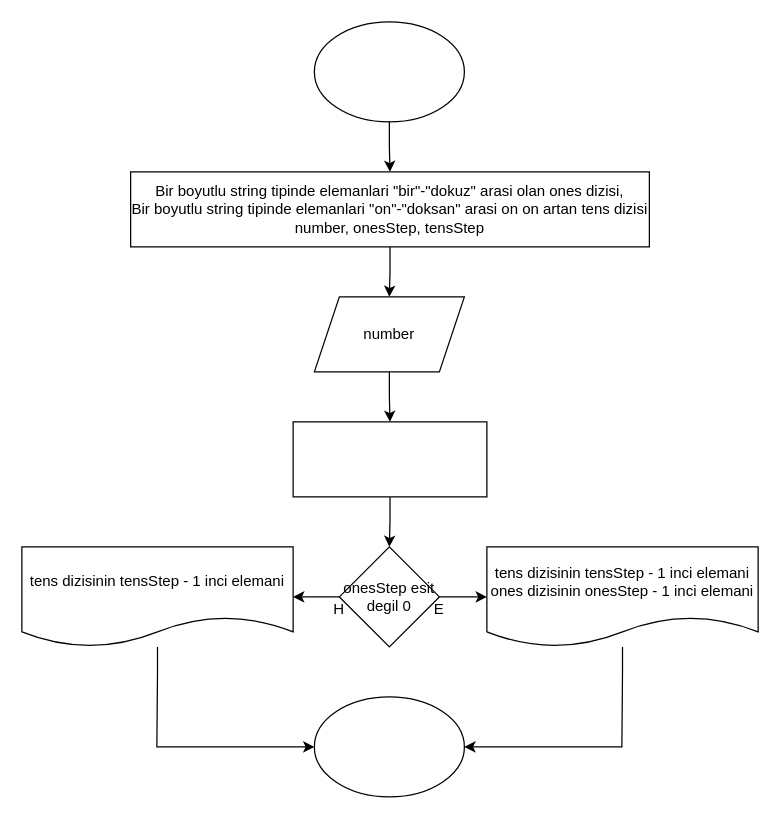
Image size: 780x819. Some labels were removed from this diagram. The shapes that lost their labels are listed below. From the top down, each one's centre as x and y in pixels, then its label:
the point at 388,71: START
the point at 389,459: onesStep = number % 10 tensStep = number / 10
the point at 388,746: STOP
